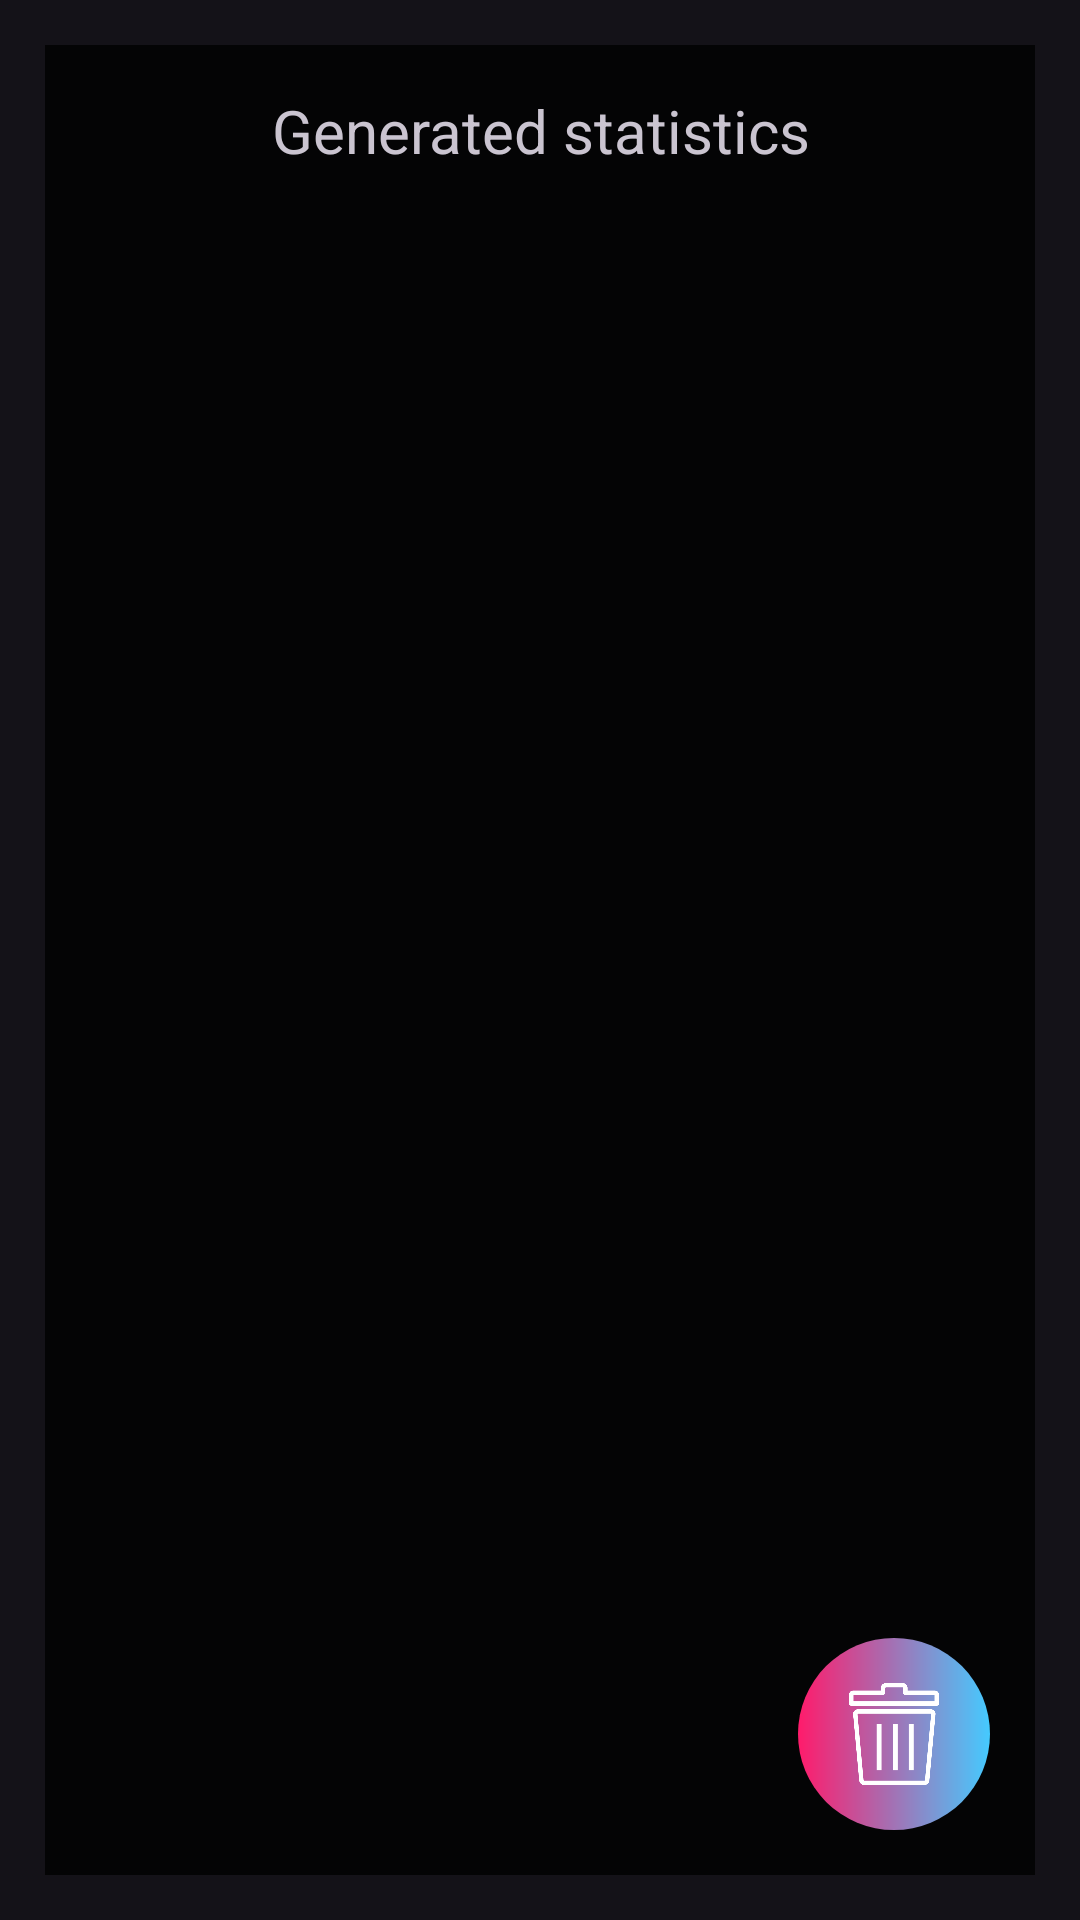

Named icons in this screenshot (1080px x 1920px) and their bounding boxes, box(x1, y1, x2, y2):
bin: box(798, 1638, 990, 1830)
